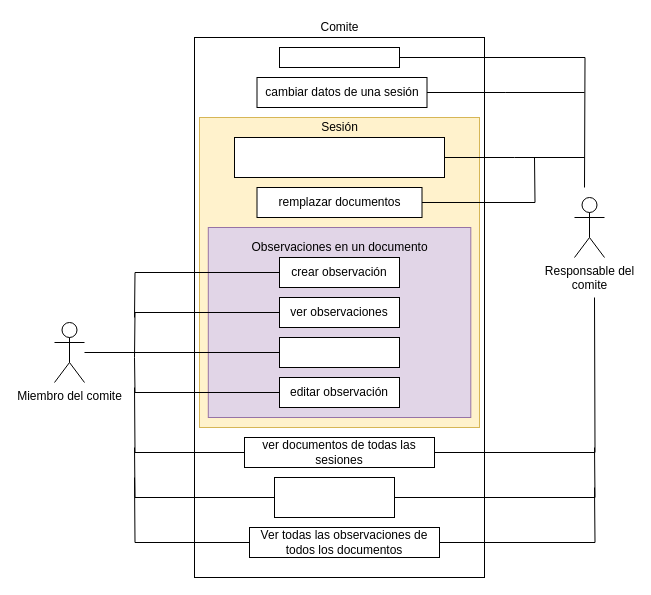
The diagram is 651 pixels wide and 595 high, and some of its shapes have lost their labels. Each missing label, with the box of its shape:
Crear sesiones: (278, 46, 400, 68)
eliminar observación: (278, 336, 400, 368)
subir documentos relacionados con la sesion: (234, 136, 444, 178)
ver todas las sesiones del comite: (274, 476, 394, 518)
